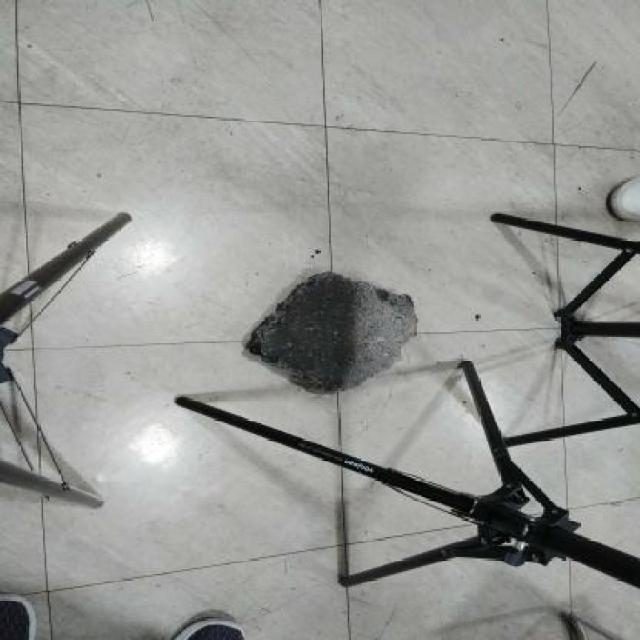Road Debris: (250, 273, 361, 393)
